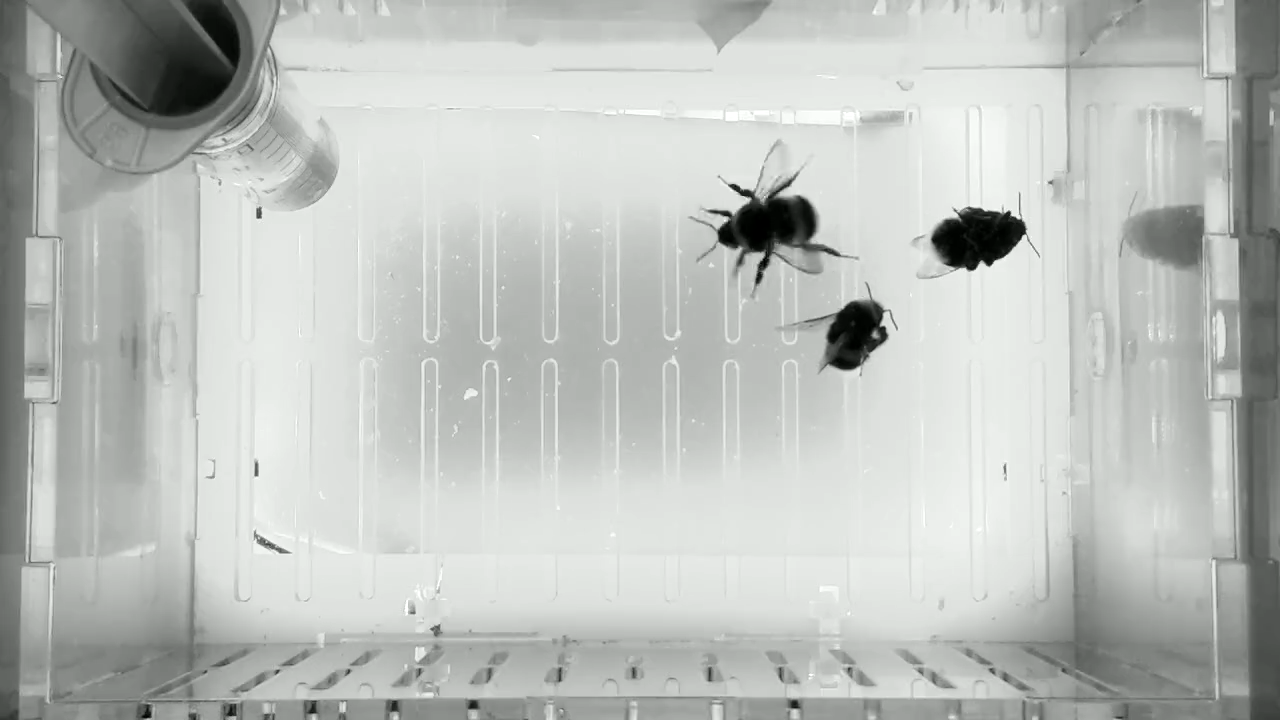bee: (685, 139, 864, 302), (769, 276, 902, 381), (909, 189, 1044, 283)
feeder: (189, 49, 342, 219)
